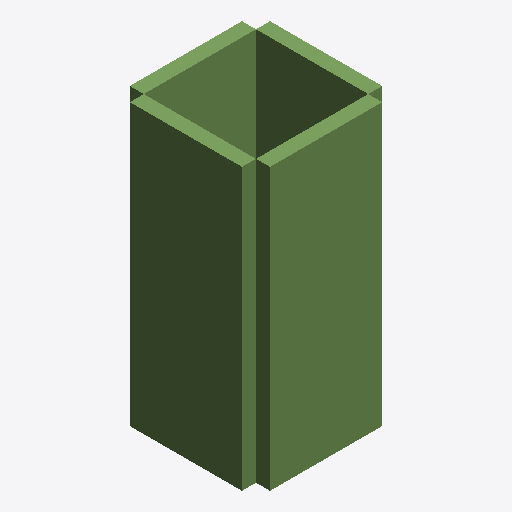
A Minecraft block model of 4 cuboids, rendered isometrically (azimuth 45°, elevation 35.3°) with the resource pack's own textures.
Parts seen in each view (by area): element 1, element 3, element 2, element 4.
Boxes of the visible parts, box(x1,y1,x2,y2) form: element 1: box(130, 94, 255, 490); element 3: box(256, 94, 381, 490); element 2: box(256, 21, 381, 158); element 4: box(130, 21, 255, 158).
Size of the model in its own units: 10 by 20 by 10.